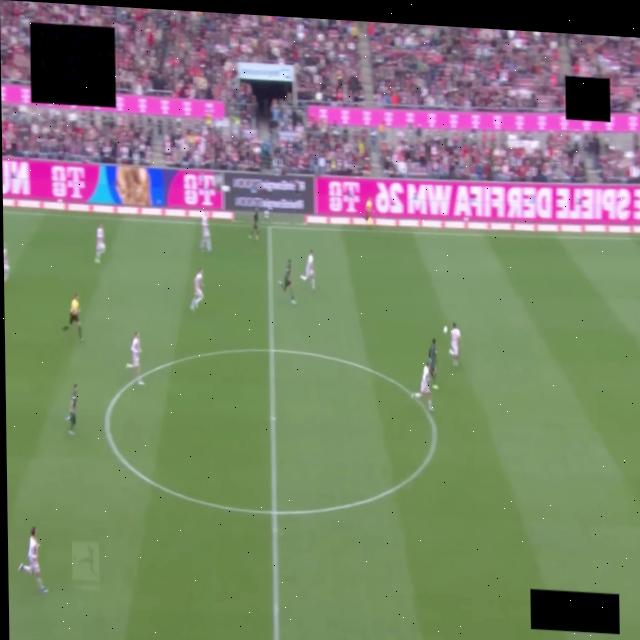ball: (442, 326, 447, 334)
player: (18, 527, 47, 593), (411, 365, 433, 411), (125, 332, 143, 384), (278, 259, 295, 304), (300, 250, 314, 289), (189, 269, 202, 310), (66, 384, 76, 435), (449, 323, 460, 366), (428, 338, 437, 389), (199, 214, 211, 251), (95, 224, 105, 263), (248, 207, 258, 240), (4, 244, 8, 281)
referee: (62, 293, 82, 341)
